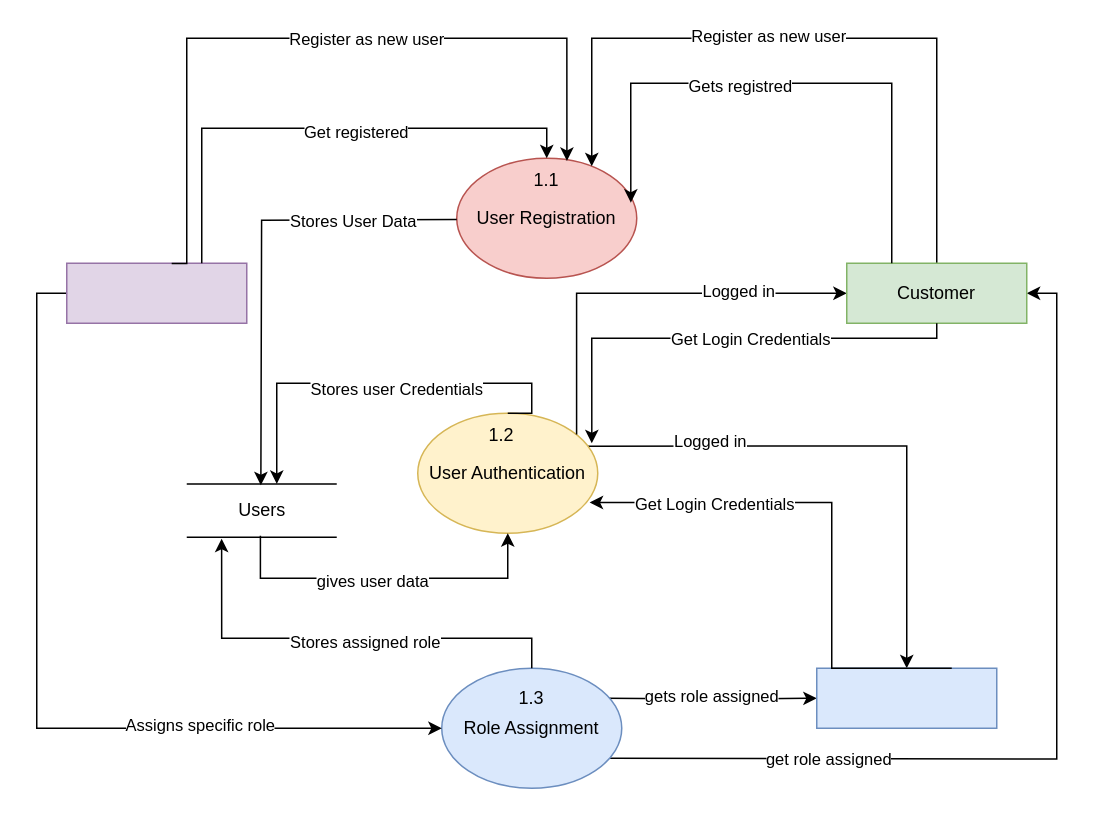
Some shapes in this 1095 by 815 pixel diagram are drawn without their labels. Each missing label, with the centre of its shape:
"Admin" goes at (x=156, y=292).
"Suppiler" goes at (x=906, y=697).
